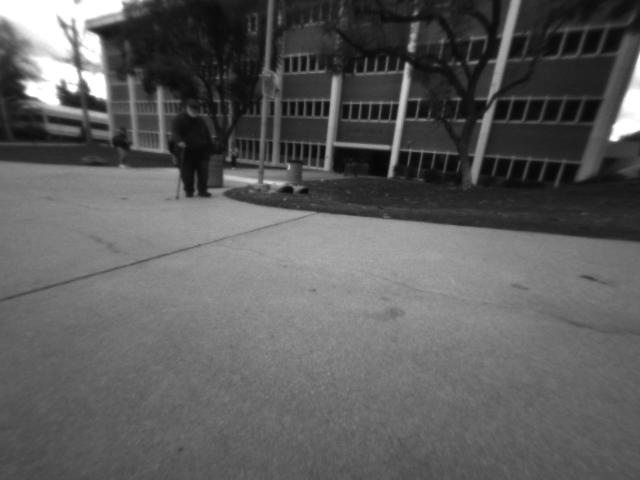trashcan: (279, 155, 305, 184)
